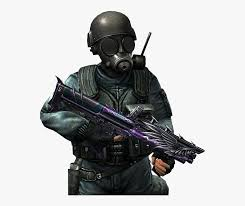gun: (48, 74, 203, 172)
